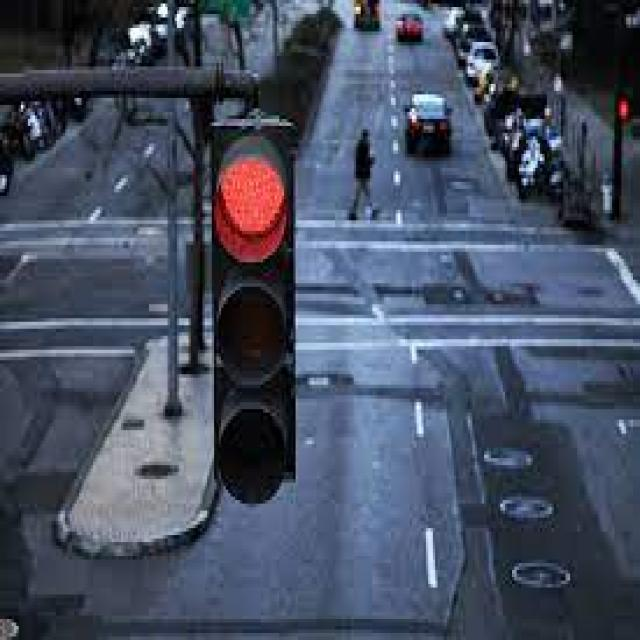red: (213, 124, 295, 494)
